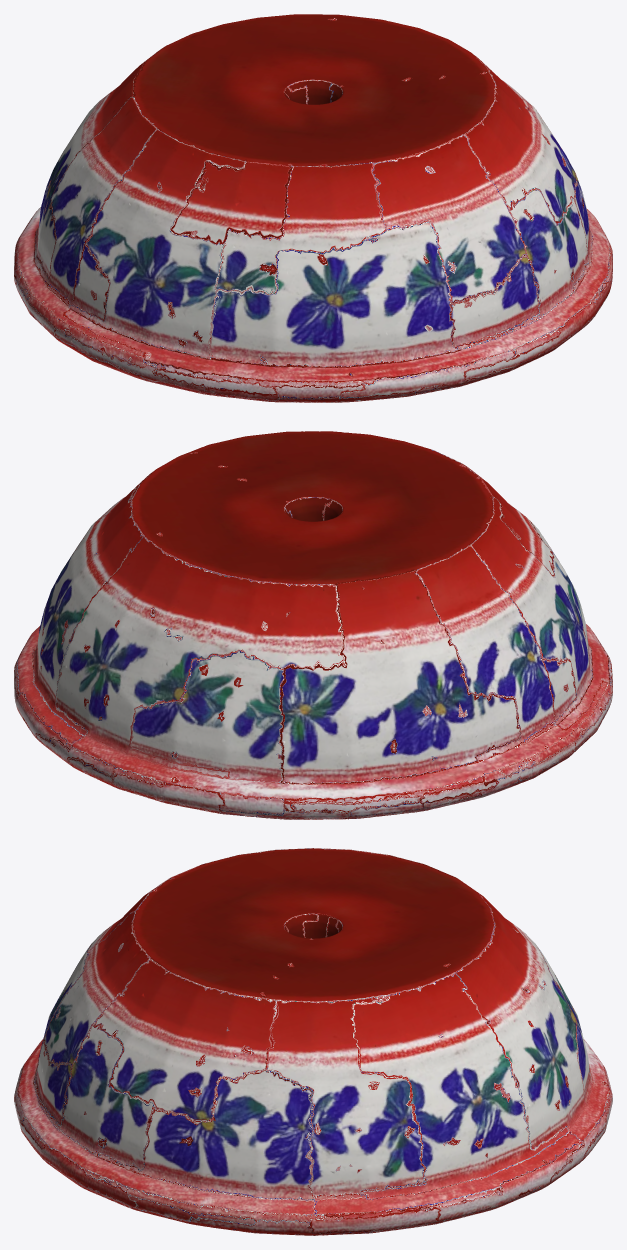
3 renders of one model, top to bottom at view 1: azimuth 30°, elevation 25°; view 2: azimuth 150°, elevation 25°; view 3: azimuth 270°, elevation 25°, orthographic.
Bounding box in the file's own units: 1.91 × 0.6716 × 1.91.
1 material, 1 textured.
